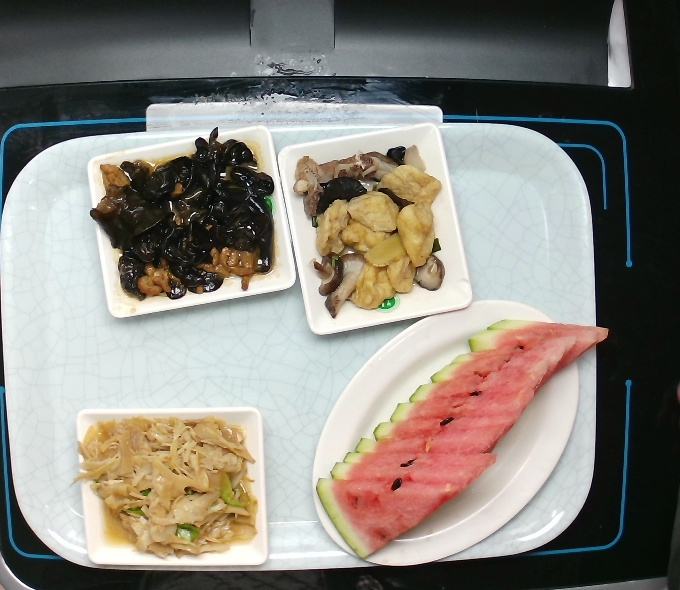wcq-LuSun: (79, 411, 265, 569)
wcq-MuErChaoRou: (106, 151, 267, 296)
wcq-XiGua: (316, 314, 613, 562)
wcq-YouPaoPaiGu: (285, 144, 453, 320)
